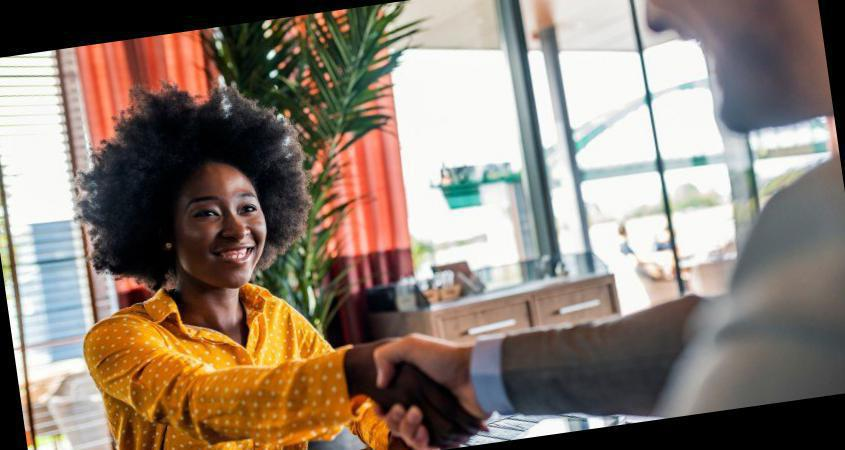Sober: (189, 169, 263, 284)
